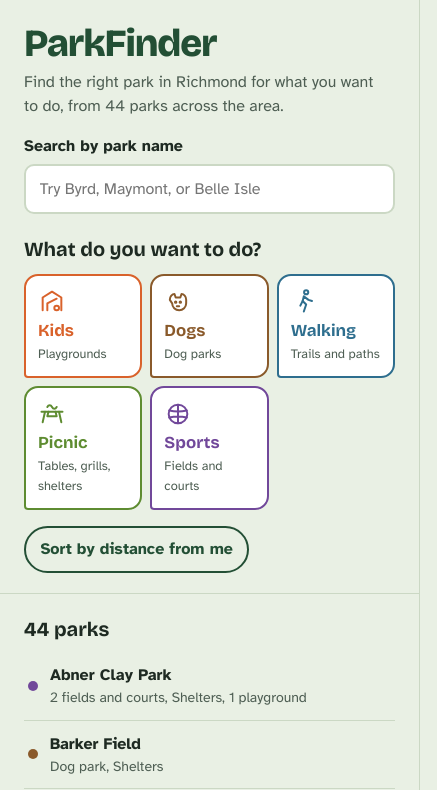
it: picking an activity narrows the list and updates the link
Click the button "Dogs Dog parks" at (209, 326), box [150,274,269,378]
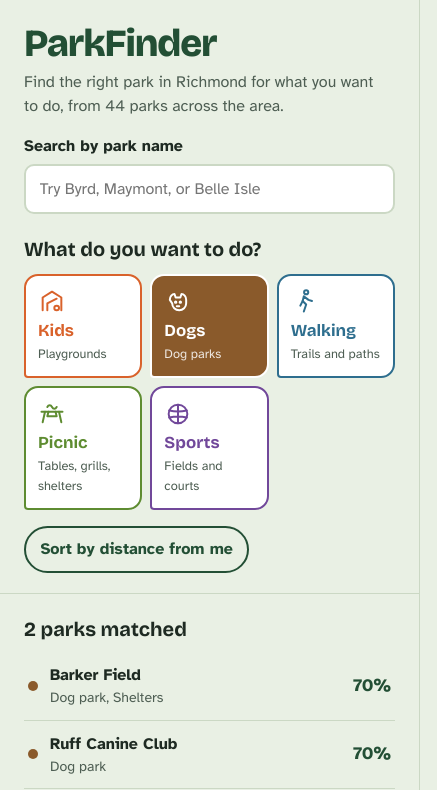
Expected: the heading "2 parks matched" is shown, [24,617,187,641]
